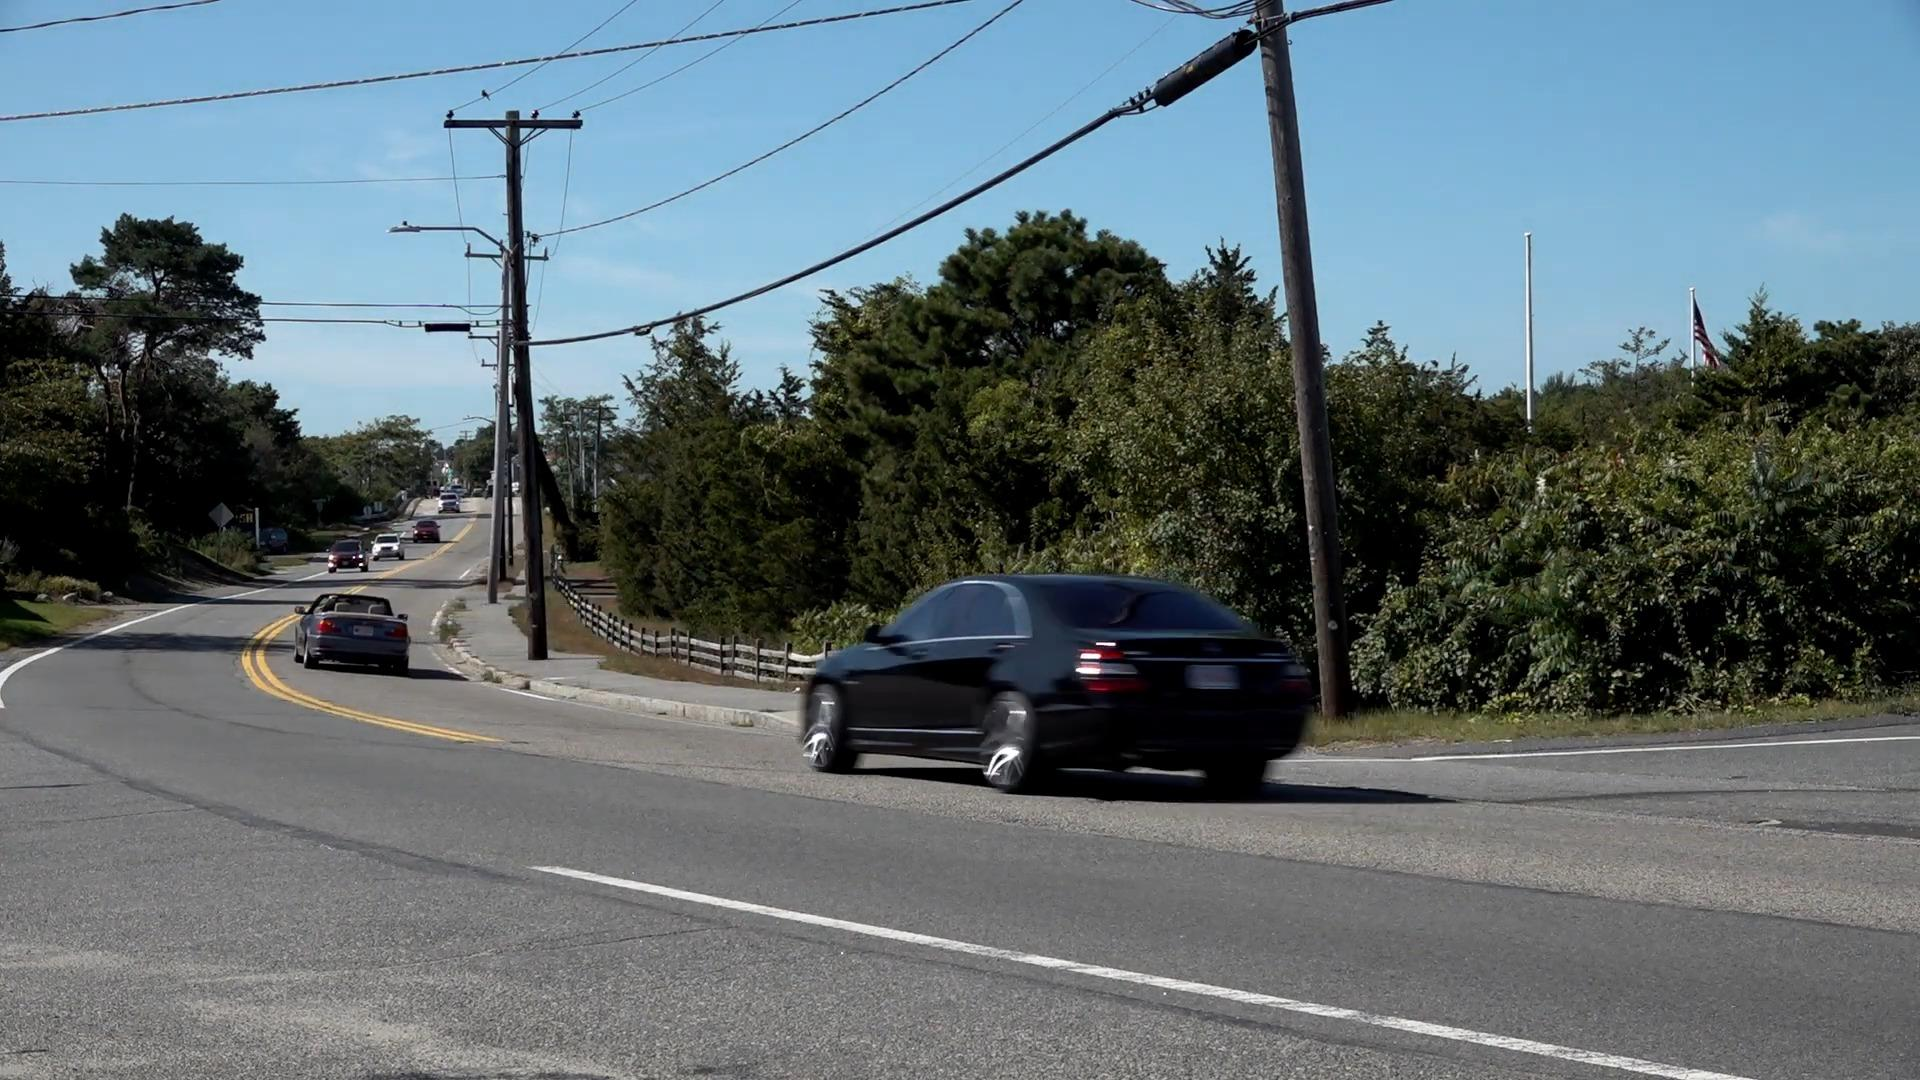sedans: (789, 570, 1315, 800), (298, 593, 411, 670)
